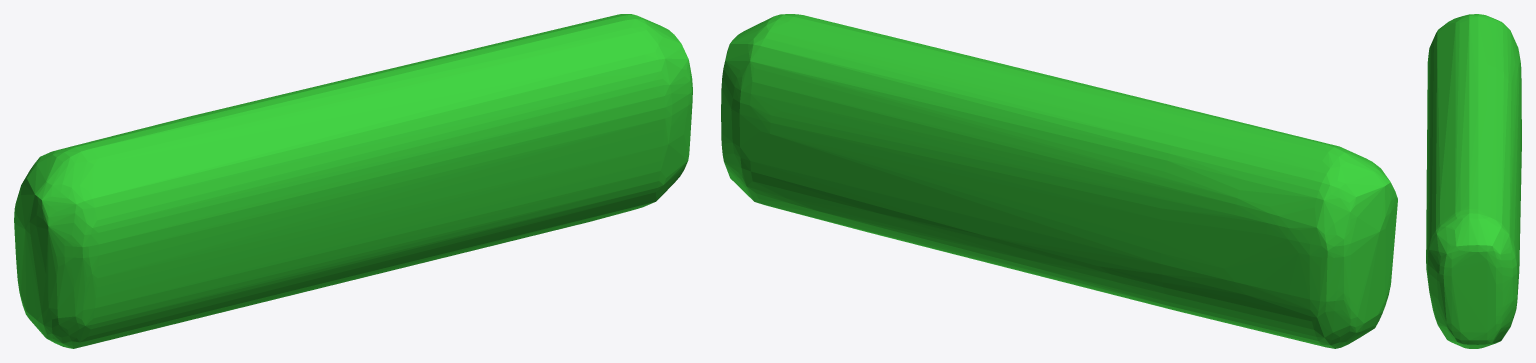
The model's file is coacd_merged.obj.
3 renders of one model, left to right at view 1: azimuth 30°, elevation 25°; view 2: azimuth 150°, elevation 25°; view 3: azimuth 270°, elevation 25°, orthographic. The views are drawn at different scales.
Parts seen in each view (by area): view 1: geometry_0; view 2: geometry_0; view 3: geometry_0.
Boxes of the visible parts, left/top/right/bottom form: geometry_0: left=14, top=14, right=692, bottom=348; geometry_0: left=721, top=14, right=1397, bottom=348; geometry_0: left=1426, top=14, right=1521, bottom=348.
Bounding box in the file's own units: 0.0804 × 0.0231 × 0.0143.
